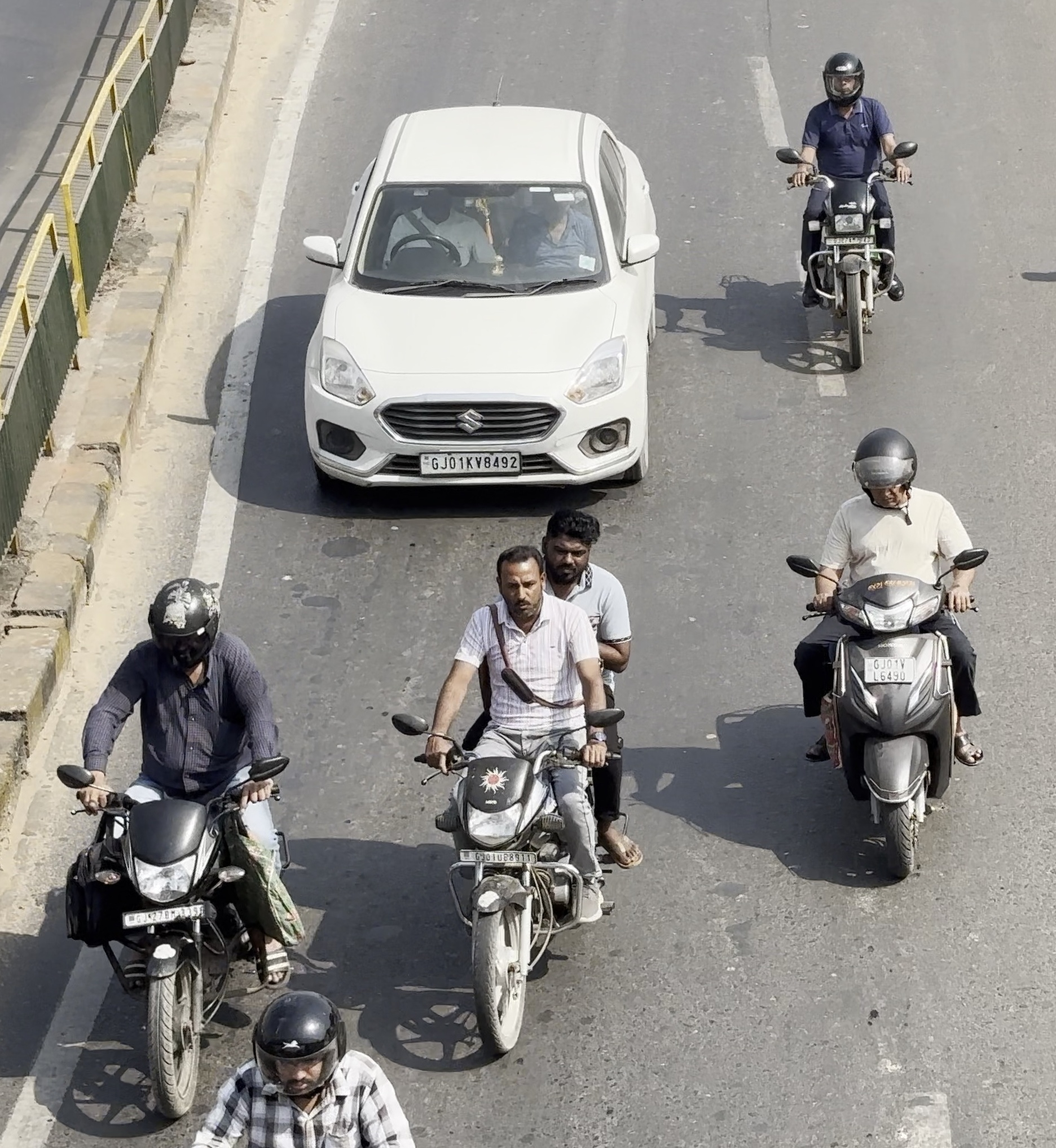BikeWithRider: (384, 505, 640, 1055), (50, 572, 300, 1124), (779, 417, 997, 885), (768, 46, 920, 373)
Helmet: (145, 576, 226, 674), (848, 423, 922, 509), (819, 50, 870, 108)
NoHelmet: (540, 507, 599, 581), (492, 547, 545, 619)
